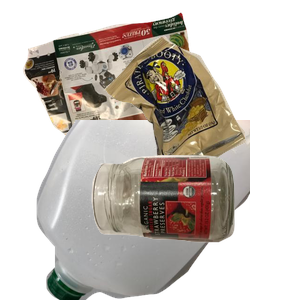glass: (89, 153, 300, 300)
paper: (20, 10, 231, 190)
plastic: (34, 120, 274, 300)
trash: (101, 33, 300, 206)
